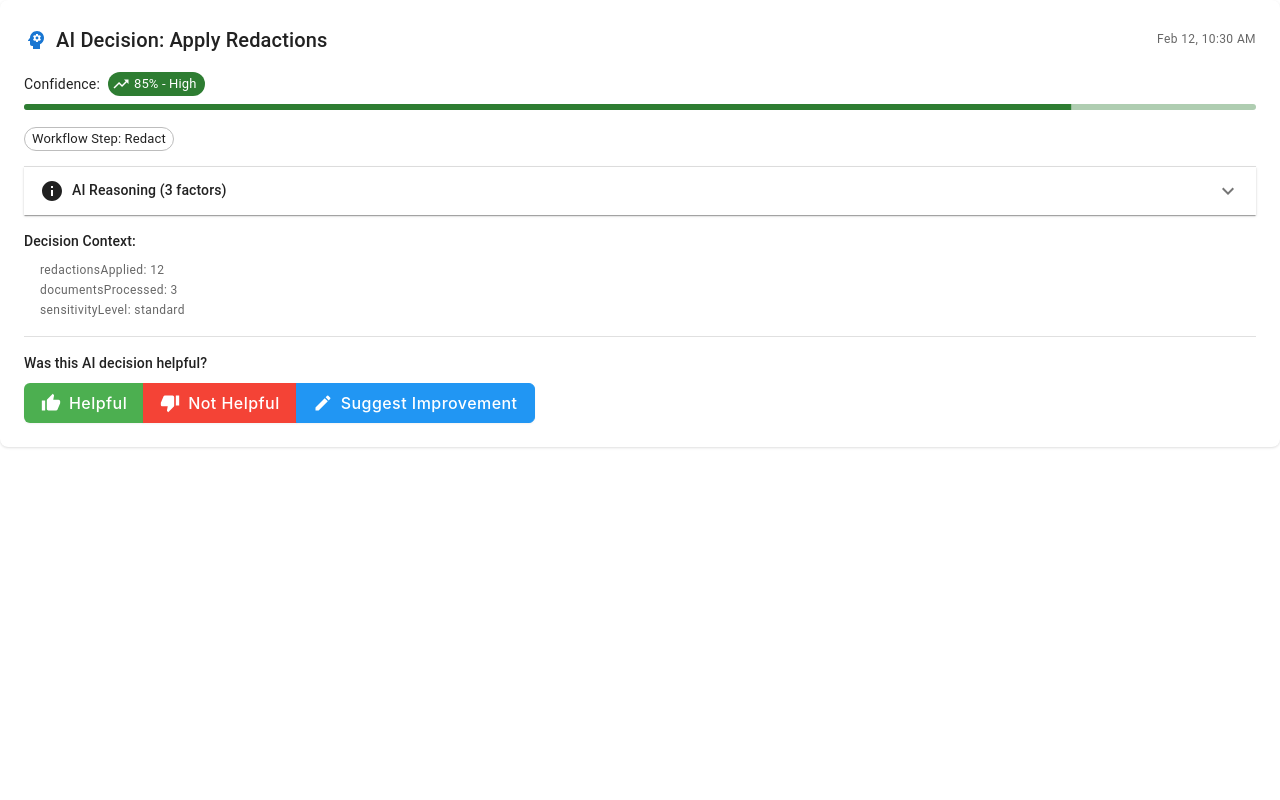
Test: AIDecisionTransparency › Feedback Dialogs › opens correction dialog
The width and height of the screenshot is (1280, 800).
Step 1. Click the button "Suggest Improvement" → (415, 403), box [296,383,534,423]
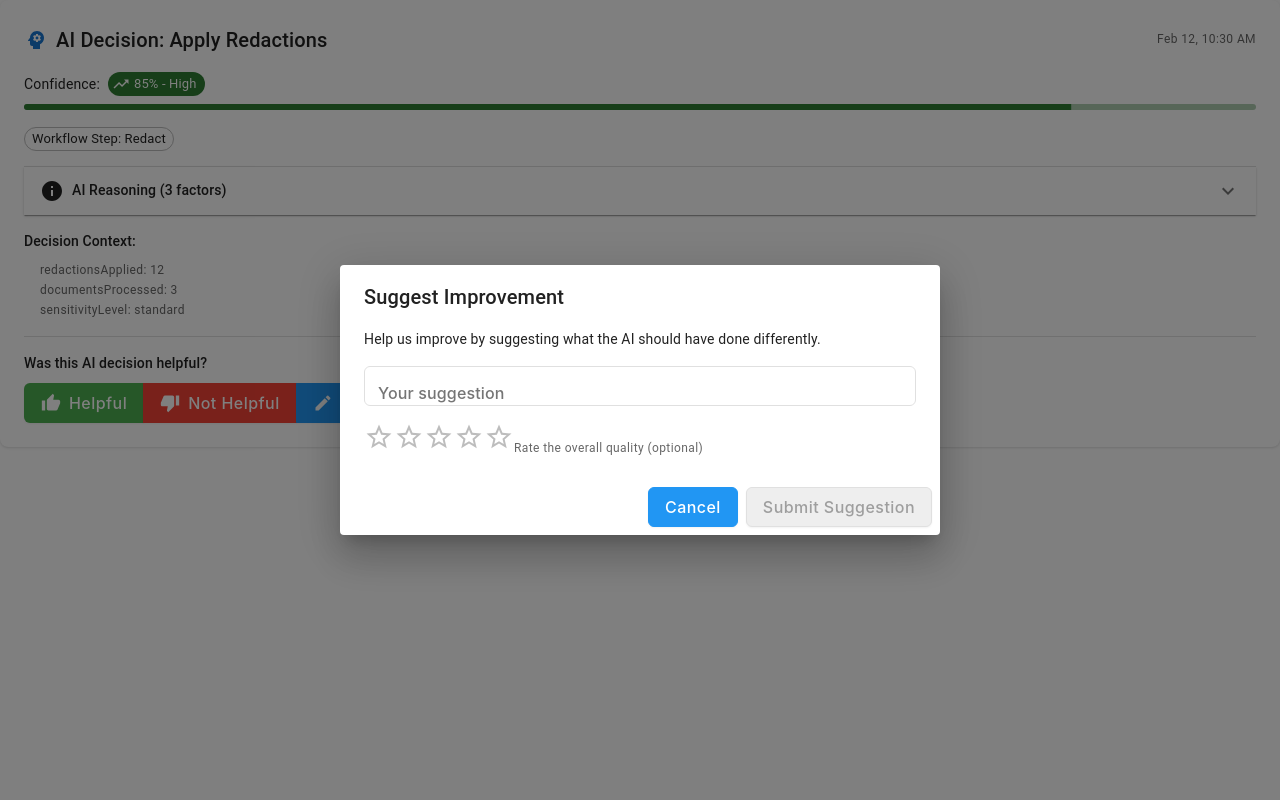
Expected: the text box labelled "Your suggestion" is shown, [378,330,902,444]
Expected: the dialog is shown, [340,266,940,534]
